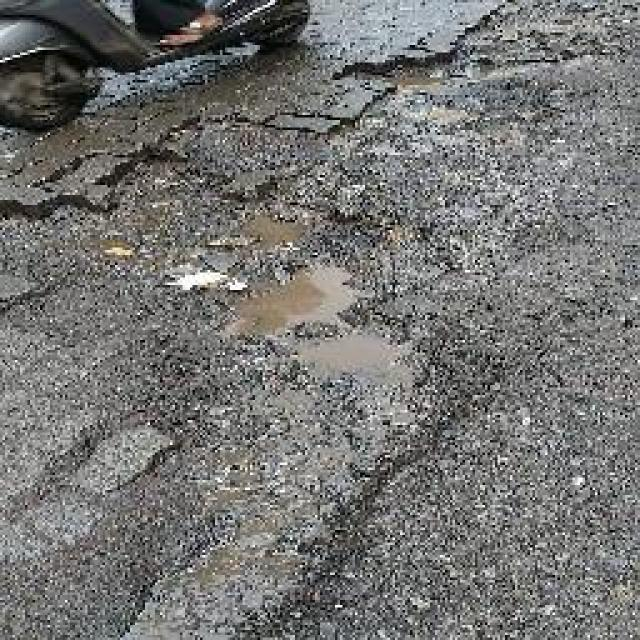waterlogging: (236, 220, 362, 390)
